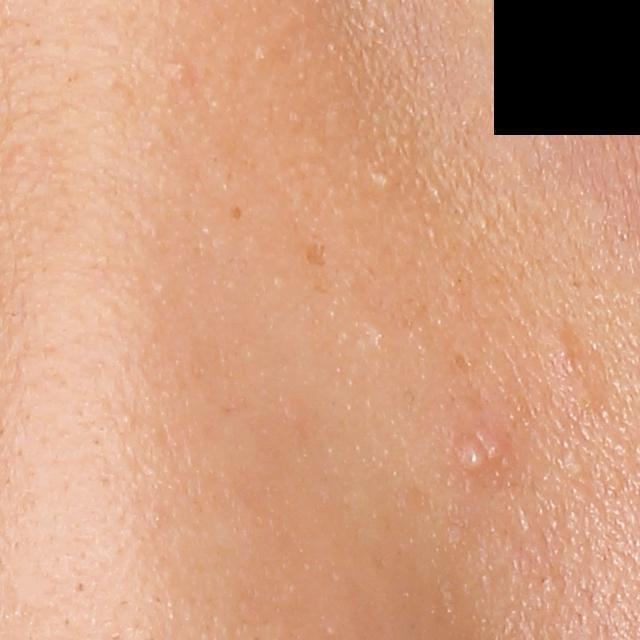comedo: (164, 52, 192, 89), (374, 173, 391, 190)
melasma: (300, 240, 326, 269), (227, 203, 245, 222)
pustule: (452, 431, 496, 476)
